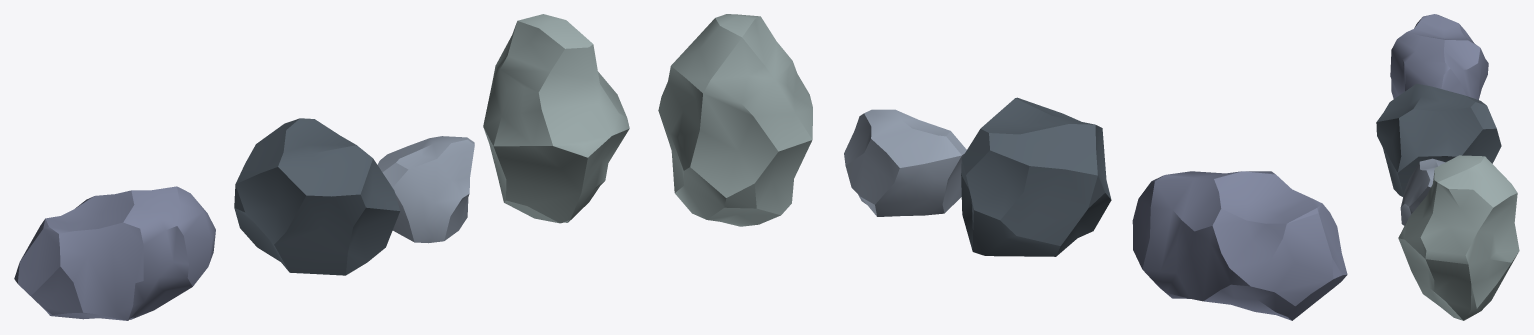
File: Rocks.fbx
3 renders of one model, left to right at view 1: azimuth 30°, elevation 25°; view 2: azimuth 150°, elevation 25°; view 3: azimuth 270°, elevation 25°, orthographic. The views are drawn at different scales.
Parts seen in each view (by area): view 1: Cube.002, Cube.003, Cube.001, Cube; view 2: Cube.002, Cube.003, Cube.001, Cube; view 3: Cube.002, Cube.001, Cube.003, Cube.
Boxes of the visible parts, box(x1,y1,x2,y2) form: Cube.002: box(483, 14, 629, 223); Cube.003: box(14, 186, 215, 320); Cube.001: box(234, 118, 399, 275); Cube: box(377, 136, 474, 243); Cube.002: box(658, 14, 812, 226); Cube.003: box(1132, 171, 1347, 320); Cube.001: box(961, 97, 1111, 256); Cube: box(844, 109, 966, 216); Cube.002: box(1398, 155, 1519, 320); Cube.001: box(1376, 83, 1501, 196); Cube.003: box(1390, 14, 1488, 99); Cube: box(1400, 158, 1445, 225).
Size of the model in its own units: 927 by 287 by 242.
